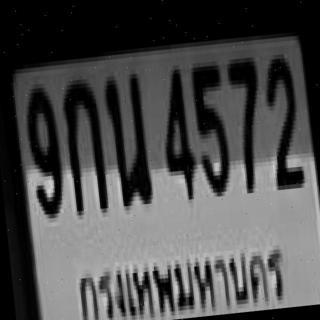A01: (58, 74, 108, 212)
A25: (101, 67, 152, 205)
N02: (261, 49, 303, 186)
N04: (154, 64, 197, 198)
N05: (189, 58, 231, 192)
N07: (224, 51, 266, 188)
N09: (22, 82, 65, 215)
P04: (68, 238, 292, 320)
